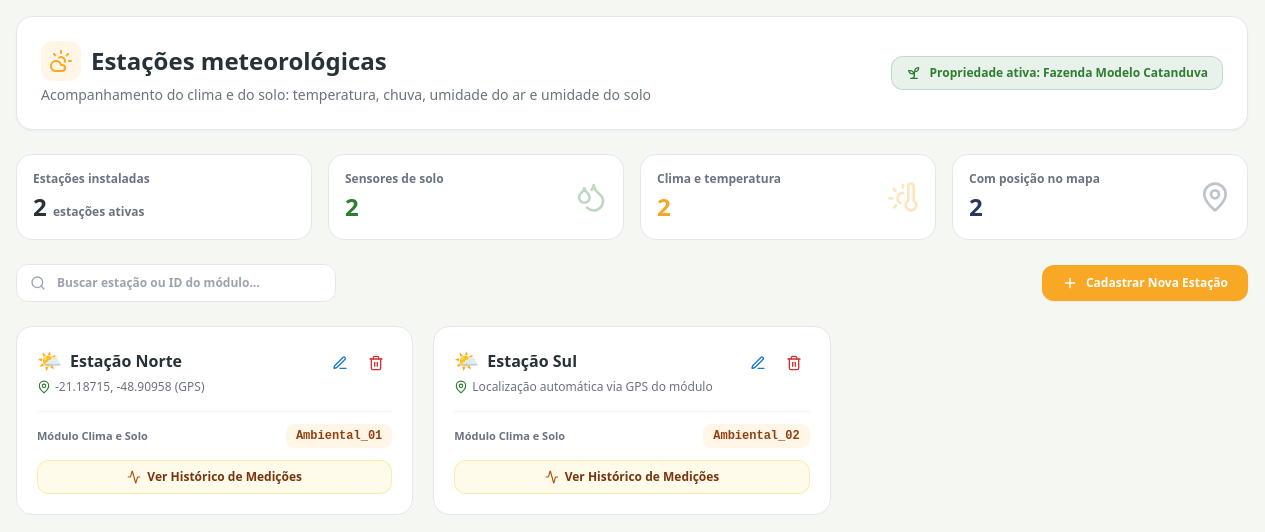
Test case: Página de Estações Ambientais (EstacoesAmbientais) › renderiza os cards das estações ambientais e filtra pela busca
This screenshot has width=1265, height=532.
Expected: the heading "Estação Norte" is shown, x1=70 y1=349 x2=182 y2=373
Expected: the text "Ambiental_01" is shown, x1=286 y1=424 x2=392 y2=448
# Filtra pelo ID do módulo
Type "Ambiental_01" into the field with placeholder "Buscar estação ou ID do módulo...". click: [176, 283]
box: x1=16 y1=264 x2=336 y2=302
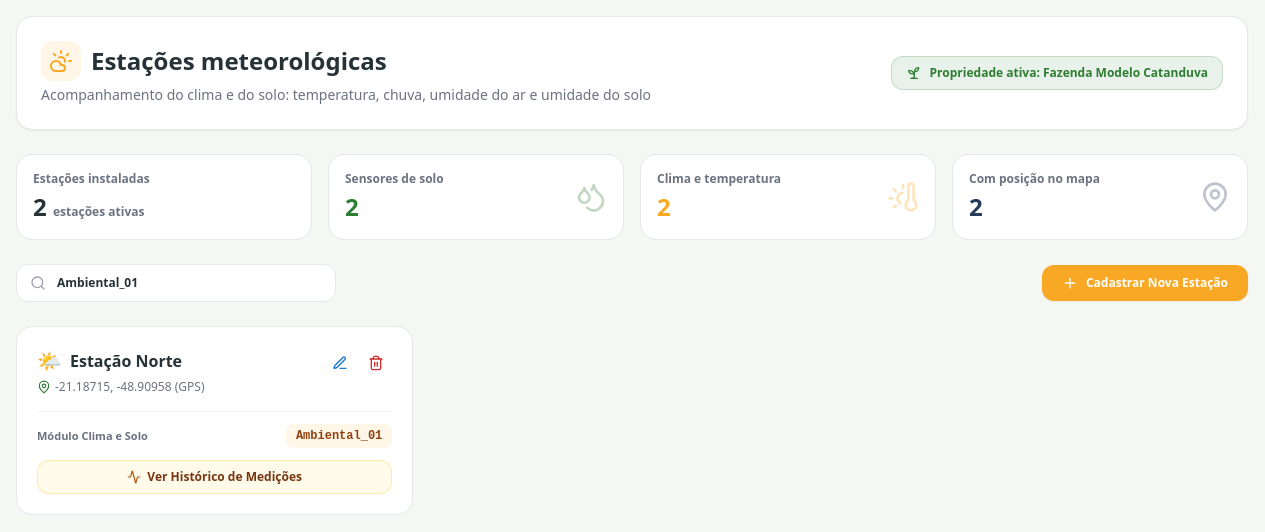
Expected: the heading "Estação Norte" is shown, x1=70 y1=349 x2=182 y2=373
Result: the heading "Estação Sul" is gone
